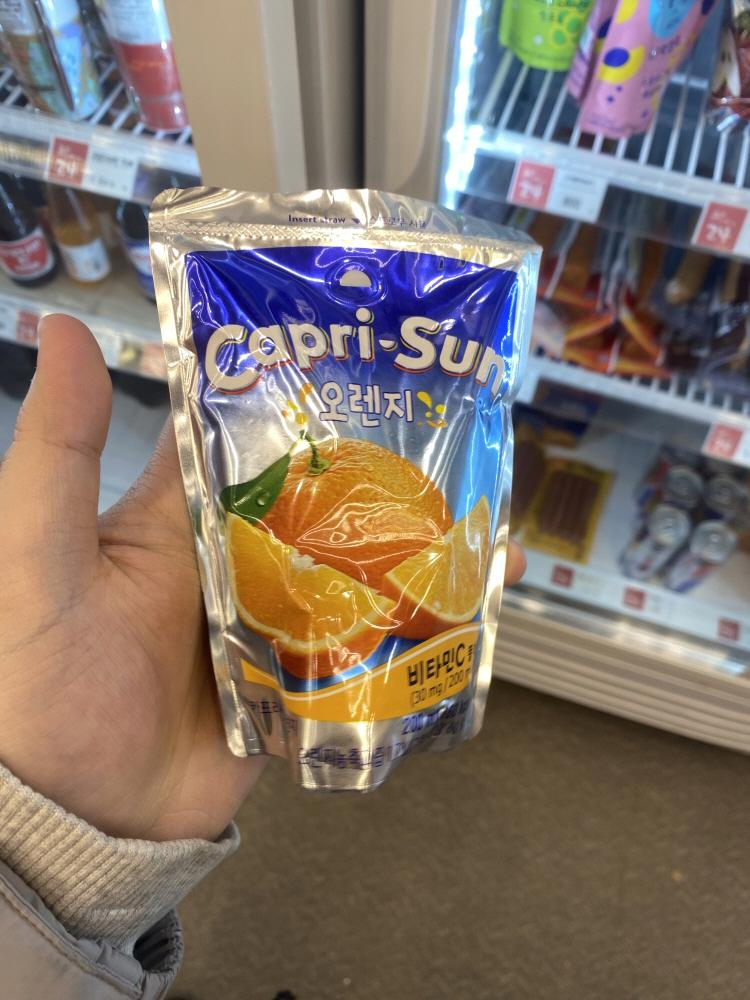cafrisun: (121, 160, 589, 800)
